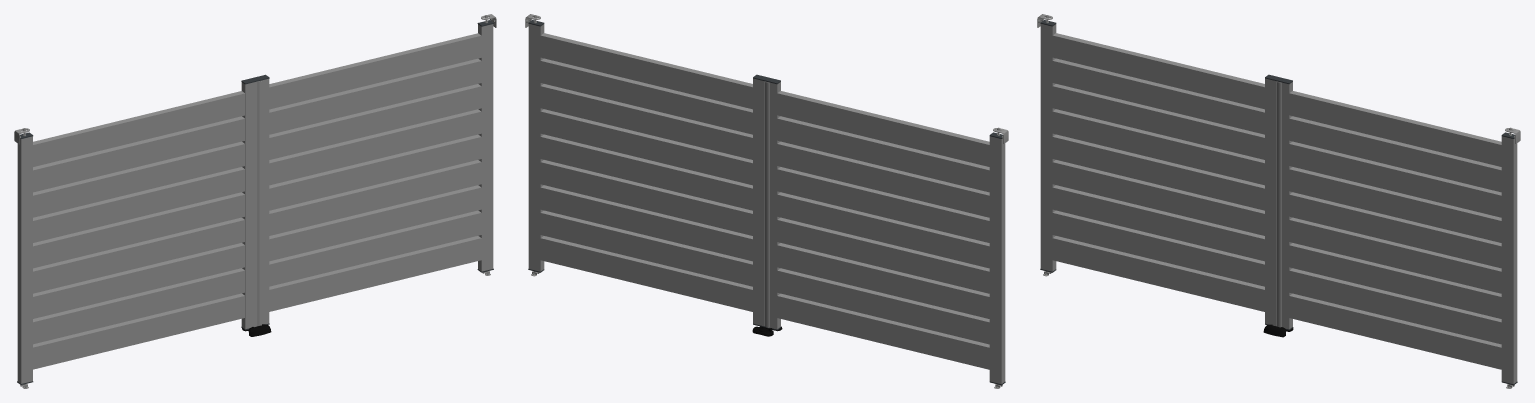
3 views of the same model, side by side, from view 1: azimuth 30°, elevation 25°; view 2: azimuth 150°, elevation 25°; view 3: azimuth 330°, elevation 25° (orthographic).
Parts seen in each view (by area): view 1: Shape208, Shape206, Shape200, Shape201, Shape202, Shape203, Shape204, Shape207, Shape205, Shape107412643, Shape107412740, Shape107412638 (+2 smaller); view 2: Shape208, Shape207, Shape201, Shape204, Shape206, Shape205, Shape200, Shape202, Shape203, Shape107412643, Shape107412740, Shape107412739 (+2 smaller); view 3: Shape208, Shape207, Shape201, Shape204, Shape206, Shape205, Shape200, Shape203, Shape202, Shape107412740, Shape107412643, Shape107412638 (+2 smaller).
Part boxes in pixels (x1=…): Shape208: x1=33, y1=33, x2=481, y2=166; Shape206: x1=33, y1=84, x2=481, y2=217; Shape200: x1=33, y1=236, x2=481, y2=369; Shape201: x1=33, y1=210, x2=481, y2=344; Shape202: x1=33, y1=185, x2=481, y2=318; Shape203: x1=33, y1=160, x2=481, y2=293; Shape204: x1=33, y1=134, x2=481, y2=268; Shape207: x1=33, y1=58, x2=481, y2=192; Shape205: x1=33, y1=109, x2=481, y2=242; Shape107412643: x1=17, y1=136, x2=32, y2=383; Shape107412740: x1=478, y1=24, x2=493, y2=271; Shape107412638: x1=241, y1=81, x2=256, y2=329; Shape208: x1=540, y1=33, x2=989, y2=166; Shape207: x1=540, y1=58, x2=989, y2=192; Shape201: x1=540, y1=210, x2=989, y2=344; Shape204: x1=540, y1=134, x2=989, y2=268; Shape206: x1=540, y1=84, x2=989, y2=217; Shape205: x1=540, y1=109, x2=989, y2=242; Shape200: x1=540, y1=236, x2=989, y2=369; Shape202: x1=540, y1=185, x2=989, y2=318; Shape203: x1=540, y1=160, x2=989, y2=293; Shape107412643: x1=989, y1=136, x2=1005, y2=383; Shape107412740: x1=528, y1=24, x2=544, y2=271; Shape107412739: x1=753, y1=78, x2=764, y2=326; Shape208: x1=1052, y1=33, x2=1501, y2=166; Shape207: x1=1052, y1=58, x2=1501, y2=192; Shape201: x1=1052, y1=210, x2=1501, y2=344; Shape204: x1=1052, y1=134, x2=1501, y2=268; Shape206: x1=1052, y1=84, x2=1501, y2=217; Shape205: x1=1052, y1=109, x2=1501, y2=242; Shape200: x1=1052, y1=236, x2=1501, y2=369; Shape203: x1=1052, y1=160, x2=1501, y2=293; Shape202: x1=1052, y1=185, x2=1501, y2=318; Shape107412740: x1=1501, y1=136, x2=1517, y2=383; Shape107412643: x1=1040, y1=24, x2=1056, y2=271; Shape107412638: x1=1265, y1=78, x2=1276, y2=326.
Bounding box in the file's own units: 3260 × 1696 × 146.
7 materials, 2 textured.
